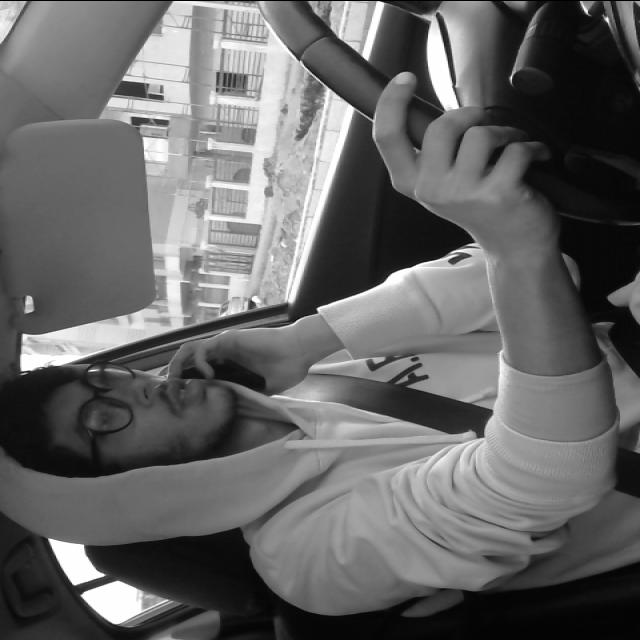mobile use: (134, 355, 272, 427)
